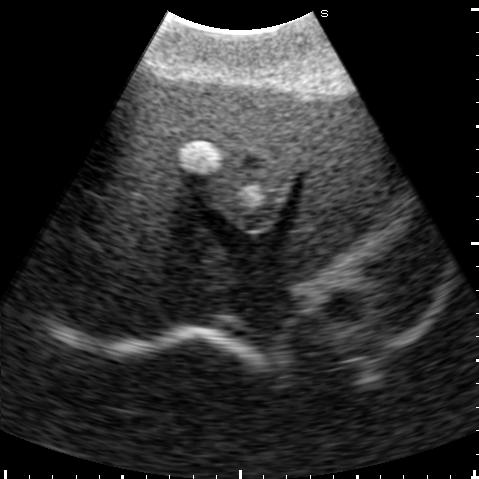S2: (283, 99, 389, 282)
S4: (128, 74, 315, 235)
S7: (41, 233, 176, 342)
S8: (79, 140, 234, 288)
Tumor: (176, 140, 220, 174), (239, 187, 266, 206)
